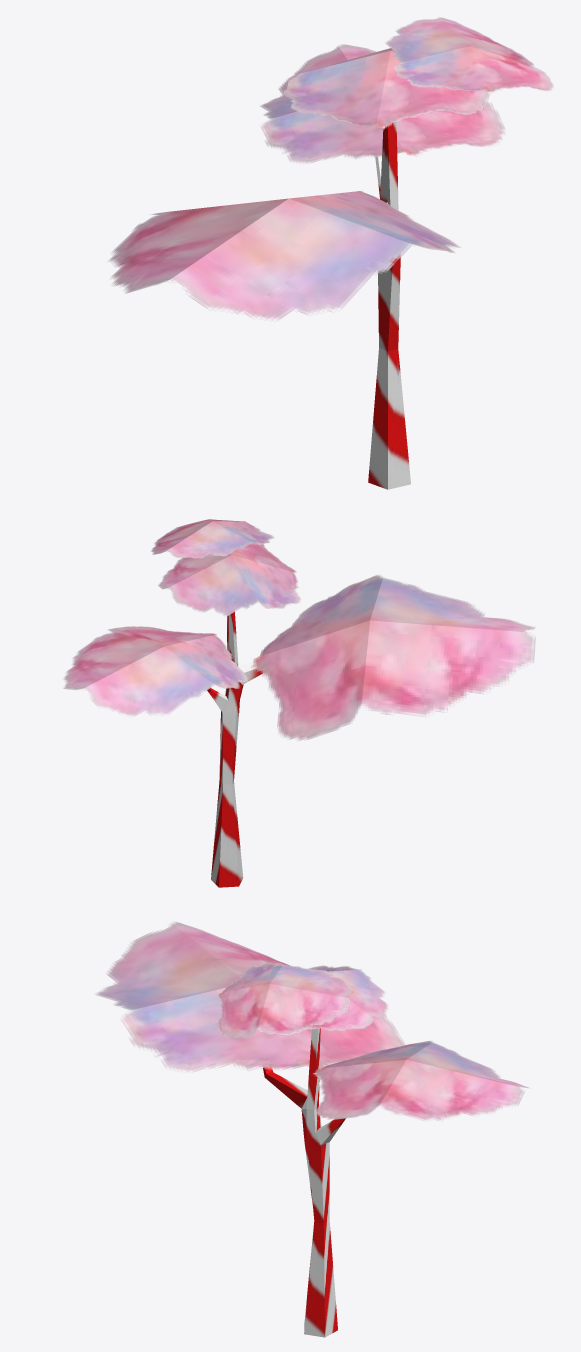
3 views of the same model, one above another, from view 1: azimuth 30°, elevation 25°; view 2: azimuth 150°, elevation 25°; view 3: azimuth 270°, elevation 25° (orthographic). The views are drawn at different scales.
Visible parts, largest first — view 1: pPlane2, pPlane1, pPlane5, pPlane3, Tree; view 2: pPlane2, pPlane1, pPlane5, Tree, pPlane3; view 3: pPlane2, pPlane1, pPlane3, Tree, pPlane5.
Part boxes in pixels (x1=…): pPlane2: x1=108, y1=191, x2=460, y2=321; pPlane1: x1=260, y1=44, x2=505, y2=163; pPlane5: x1=283, y1=48, x2=490, y2=129; pPlane3: x1=385, y1=17, x2=553, y2=93; Tree: x1=368, y1=121, x2=410, y2=489; pPlane2: x1=251, y1=574, x2=535, y2=740; pPlane1: x1=63, y1=626, x2=248, y2=717; pPlane5: x1=158, y1=542, x2=301, y2=616; Tree: x1=207, y1=611, x2=263, y2=887; pPlane3: x1=151, y1=519, x2=274, y2=558; pPlane2: x1=95, y1=921, x2=405, y2=1072; pPlane1: x1=313, y1=1040, x2=529, y2=1121; pPlane3: x1=217, y1=962, x2=353, y2=1037; Tree: x1=263, y1=1028, x2=345, y2=1337; pPlane5: x1=303, y1=965, x2=388, y2=1030.
Size of the model in its own units: 0.3367 by 0.2519 by 0.3444.
2 materials, 2 textured.
